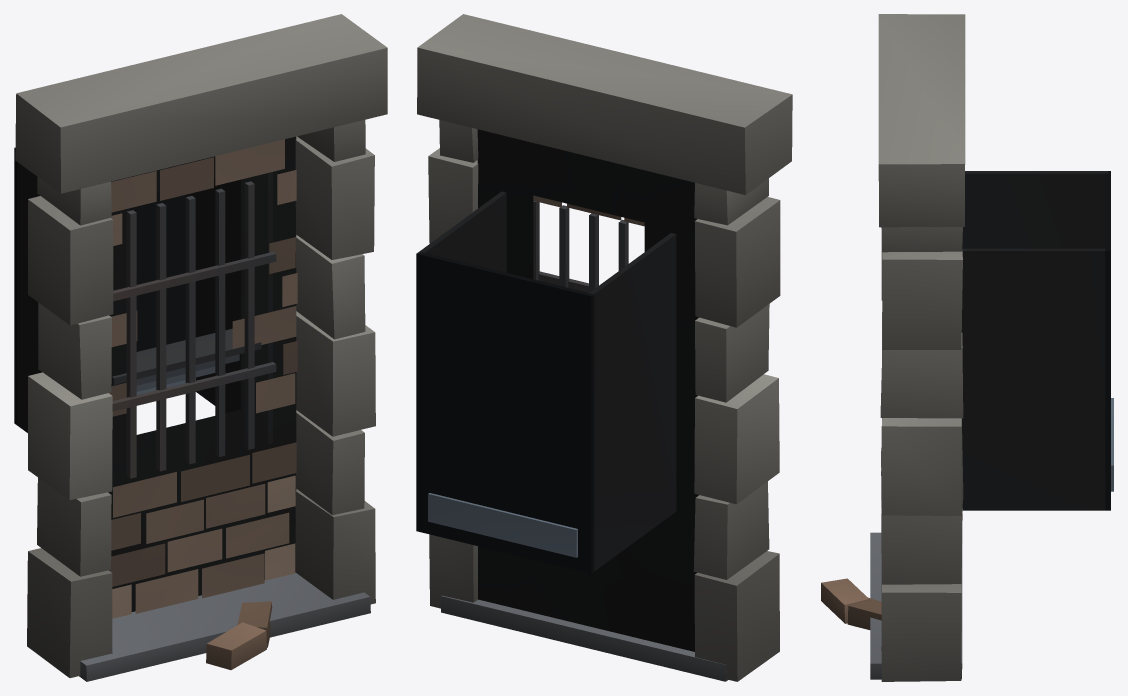
File: ph_int_sealed_passage_grille.glb
3 renders of one model, left to right at view 1: azimuth 30°, elevation 25°; view 2: azimuth 150°, elevation 25°; view 3: azimuth 270°, elevation 25°, orthographic. The views are drawn at different scales.
Visible parts, largest first — view 1: ph_int_sealed_passage_grille; view 2: ph_int_sealed_passage_grille; view 3: ph_int_sealed_passage_grille.
Boxes of the visible parts, x1,y1,x2,y2 form: ph_int_sealed_passage_grille: [14, 14, 387, 681]; ph_int_sealed_passage_grille: [416, 14, 792, 681]; ph_int_sealed_passage_grille: [821, 14, 1113, 681].
Bounding box in the file's own units: 1.24 × 2.02 × 1.02.
